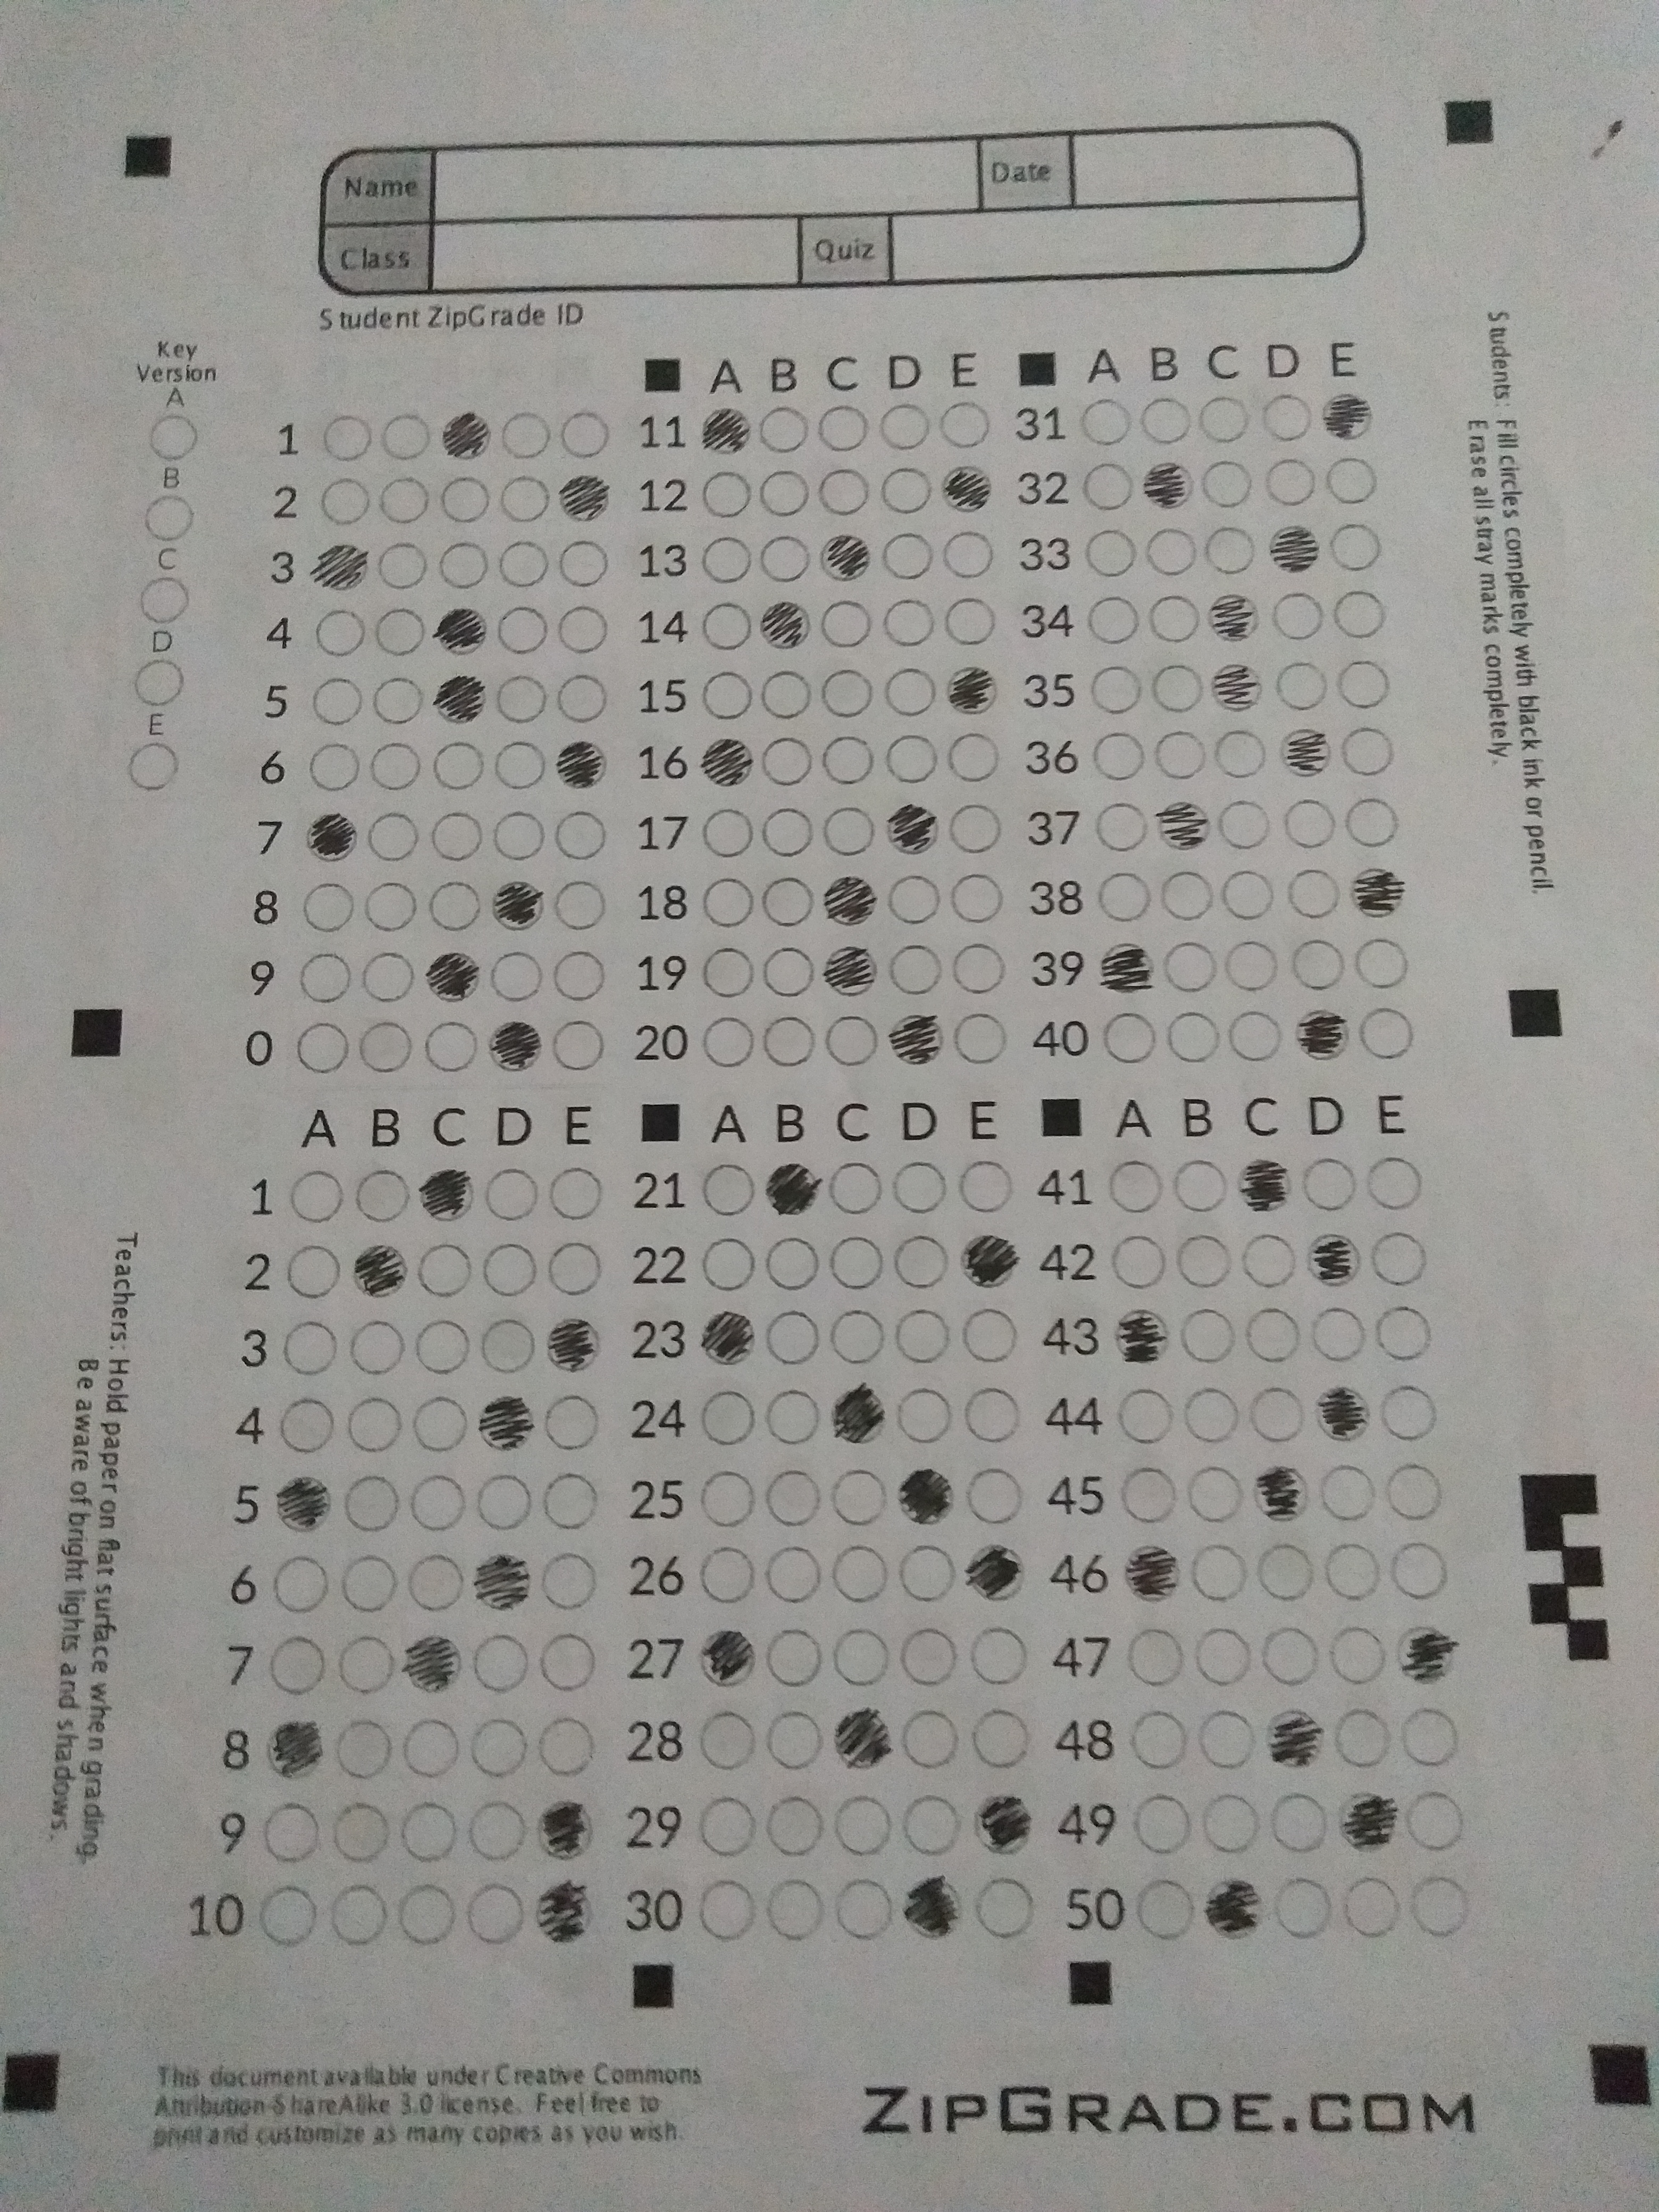not-c: (1406, 1791, 1469, 1855), (1131, 1791, 1194, 1855), (1129, 1705, 1192, 1770), (1398, 1705, 1460, 1770), (1387, 1536, 1450, 1601), (1323, 1540, 1385, 1604), (1316, 1461, 1378, 1526), (1380, 1460, 1443, 1524), (1248, 1383, 1310, 1447), (1378, 1379, 1441, 1444), (1108, 1228, 1171, 1292), (1366, 1224, 1429, 1289), (1363, 1148, 1425, 1212), (829, 1541, 892, 1606), (896, 1540, 958, 1604), (967, 1627, 1030, 1691), (763, 1627, 826, 1691), (697, 1707, 760, 1771), (901, 1792, 964, 1857), (897, 1705, 960, 1770), (329, 1799, 392, 1864), (267, 1632, 329, 1696), (469, 1632, 532, 1696), (472, 1470, 535, 1534), (338, 1470, 401, 1534), (542, 1386, 605, 1451), (408, 1392, 471, 1456), (477, 1312, 540, 1376), (1342, 1876, 1405, 1940), (1272, 1874, 1335, 1939), (762, 1306, 824, 1371), (826, 1306, 889, 1371), (958, 1305, 1021, 1369), (892, 1385, 955, 1449), (697, 1543, 760, 1608), (695, 1468, 758, 1533), (1255, 1540, 1317, 1602), (1185, 1463, 1248, 1526), (763, 1710, 826, 1773), (267, 1552, 329, 1615), (1408, 1874, 1471, 1937), (1269, 1791, 1330, 1855), (1201, 1789, 1262, 1853), (1194, 1709, 1255, 1773), (1333, 1707, 1394, 1771), (1124, 1627, 1185, 1691), (1192, 1625, 1253, 1689), (1260, 1622, 1321, 1686), (1328, 1620, 1389, 1684), (1188, 1540, 1249, 1604), (1117, 1465, 1178, 1529), (1115, 1385, 1176, 1449), (1182, 1385, 1243, 1449), (1373, 1301, 1434, 1366), (1243, 1303, 1303, 1367), (1176, 1305, 1237, 1369), (1173, 1228, 1234, 1292), (1239, 1226, 1300, 1291), (1298, 1150, 1359, 1214), (1171, 1153, 1232, 1217), (1107, 1153, 1168, 1217), (897, 1627, 958, 1691), (828, 1625, 889, 1689), (697, 1792, 758, 1857), (765, 1792, 826, 1857), (833, 1792, 894, 1857), (969, 1709, 1030, 1773), (976, 1876, 1037, 1940), (833, 1876, 894, 1940), (765, 1879, 826, 1944), (699, 1876, 760, 1940), (326, 1881, 387, 1946), (396, 1885, 457, 1949), (465, 1881, 526, 1946), (258, 1885, 319, 1949), (261, 1799, 322, 1864), (399, 1801, 460, 1865), (467, 1799, 528, 1864), (533, 1714, 594, 1778), (399, 1716, 460, 1780), (331, 1717, 392, 1782), (537, 1630, 598, 1695), (538, 1547, 599, 1611), (403, 1548, 464, 1613), (338, 1550, 399, 1615), (540, 1468, 601, 1533), (406, 1470, 467, 1534), (343, 1393, 404, 1458), (275, 1392, 336, 1456), (347, 1315, 408, 1379), (411, 1317, 472, 1381), (1136, 1876, 1197, 1940), (697, 1383, 758, 1447), (762, 1467, 823, 1531), (762, 1386, 823, 1451), (890, 1305, 951, 1369), (890, 1228, 951, 1292), (826, 1230, 887, 1294), (762, 1231, 823, 1296), (697, 1233, 758, 1298), (962, 1383, 1023, 1447), (828, 1463, 889, 1527), (964, 1463, 1025, 1527), (1305, 1299, 1366, 1362), (469, 1716, 530, 1778), (336, 1634, 397, 1696), (762, 1543, 824, 1604), (357, 949, 418, 1008), (758, 942, 819, 1000), (948, 939, 1009, 996), (697, 805, 758, 862), (551, 874, 612, 932), (425, 810, 486, 867), (490, 737, 551, 794), (953, 1008, 1012, 1066), (758, 803, 817, 860), (945, 798, 1004, 855), (429, 735, 488, 792), (432, 535, 491, 592), (138, 489, 197, 547), (296, 949, 355, 1007), (958, 1157, 1018, 1214), (545, 1240, 605, 1298), (545, 1165, 605, 1223), (484, 1167, 544, 1224), (361, 880, 420, 937), (549, 946, 608, 1003), (547, 1017, 606, 1075), (488, 948, 547, 1005), (490, 806, 549, 864), (699, 1015, 758, 1073), (762, 1012, 821, 1069), (885, 871, 945, 928), (369, 606, 430, 662), (1100, 1010, 1157, 1068), (293, 1019, 352, 1075), (823, 1014, 882, 1069), (699, 944, 758, 1000), (885, 941, 945, 996), (699, 874, 758, 930), (758, 873, 817, 928), (946, 871, 1006, 927), (817, 805, 877, 860), (551, 810, 610, 866), (364, 740, 423, 796), (491, 671, 551, 726), (366, 669, 425, 725), (305, 671, 364, 726), (493, 601, 552, 657), (310, 603, 369, 658), (373, 536, 432, 592), (495, 536, 554, 592), (120, 737, 179, 792), (127, 655, 186, 711), (132, 573, 192, 629), (146, 409, 206, 465), (357, 1021, 416, 1076), (281, 1318, 340, 1374), (890, 1160, 950, 1216), (479, 1242, 538, 1298), (416, 1242, 476, 1298), (282, 1244, 342, 1299), (828, 1162, 887, 1217), (697, 1162, 756, 1217), (352, 1169, 411, 1224), (286, 1169, 345, 1224), (422, 1017, 481, 1073), (298, 878, 357, 934), (427, 878, 486, 934), (364, 808, 423, 864), (1227, 1008, 1284, 1064), (1358, 1007, 1415, 1062), (556, 667, 610, 726), (437, 474, 493, 529), (1162, 1012, 1220, 1066), (554, 604, 613, 657), (303, 740, 362, 792), (1335, 658, 1391, 712), (556, 538, 612, 592), (1274, 660, 1330, 714), (319, 411, 376, 463), (1340, 726, 1398, 779), (317, 474, 375, 526), (819, 733, 877, 786), (945, 732, 1002, 784), (1352, 935, 1410, 988), (1159, 869, 1216, 921), (1220, 867, 1277, 920), (1283, 798, 1340, 850), (1093, 799, 1150, 852), (1211, 728, 1269, 780), (758, 737, 816, 789), (376, 409, 432, 462), (375, 474, 430, 526), (817, 667, 873, 719), (1161, 942, 1216, 995), (1098, 869, 1154, 921), (1345, 794, 1401, 846), (1218, 798, 1274, 850), (1091, 730, 1147, 782), (884, 733, 941, 784), (760, 669, 817, 719), (1222, 941, 1279, 991), (1152, 730, 1209, 780), (697, 671, 753, 721), (1290, 939, 1345, 989), (1286, 869, 1342, 920), (1330, 521, 1382, 571), (699, 469, 751, 519), (758, 467, 810, 517), (878, 463, 931, 514), (1326, 453, 1378, 503), (1263, 456, 1316, 507), (1201, 456, 1253, 507), (1080, 460, 1133, 510), (1199, 394, 1251, 444), (1141, 394, 1194, 444), (1080, 395, 1133, 446), (939, 399, 992, 449), (878, 401, 931, 451), (817, 401, 870, 451), (758, 404, 810, 455), (1152, 662, 1204, 712), (498, 472, 551, 523), (885, 667, 938, 718), (1087, 594, 1140, 644), (1147, 590, 1199, 641), (1272, 590, 1324, 641), (1335, 589, 1387, 639), (821, 599, 873, 650), (884, 596, 936, 646), (945, 594, 997, 644), (701, 601, 753, 651), (498, 411, 551, 462), (558, 409, 610, 460), (1084, 526, 1136, 577), (941, 528, 993, 578), (880, 529, 932, 580), (758, 533, 810, 583), (701, 535, 753, 585), (819, 465, 870, 516), (1260, 390, 1310, 441), (1091, 664, 1141, 714), (1147, 524, 1197, 575), (1204, 524, 1255, 575)
taken-c: (828, 1709, 894, 1777), (899, 1876, 965, 1942), (972, 1792, 1039, 1858), (532, 1796, 598, 1862), (399, 1630, 465, 1696), (467, 1548, 533, 1615), (530, 1883, 594, 1949), (265, 1716, 331, 1780), (1335, 1789, 1403, 1851), (695, 1627, 760, 1691), (826, 1383, 890, 1447), (964, 1543, 1030, 1606), (1202, 1876, 1267, 1939), (896, 1467, 958, 1529), (699, 1306, 760, 1369), (821, 939, 882, 1001), (814, 528, 877, 589), (1316, 387, 1378, 448), (694, 401, 755, 463), (958, 1231, 1021, 1292), (1249, 1463, 1310, 1526), (1232, 1153, 1293, 1216), (484, 1019, 545, 1080), (542, 1313, 603, 1374), (760, 1160, 821, 1221), (415, 1163, 476, 1224), (350, 1240, 411, 1301), (274, 1472, 335, 1533), (422, 944, 483, 1005), (303, 806, 364, 867), (483, 876, 544, 937), (551, 733, 612, 794), (695, 732, 756, 792), (819, 873, 880, 934), (882, 799, 943, 860), (887, 1007, 948, 1068), (1291, 1005, 1352, 1066), (1098, 937, 1159, 998), (1155, 794, 1216, 855), (941, 662, 1002, 723), (1349, 864, 1410, 925), (1276, 723, 1337, 784), (1206, 653, 1267, 714), (1202, 587, 1263, 648), (755, 594, 816, 655), (427, 667, 488, 728), (430, 599, 491, 660), (1262, 517, 1323, 578), (436, 406, 497, 467), (1136, 453, 1197, 514), (939, 462, 1000, 523), (549, 467, 610, 528), (310, 536, 371, 597), (474, 1393, 535, 1454), (1394, 1623, 1455, 1684), (1263, 1707, 1324, 1768), (1124, 1541, 1185, 1602), (1310, 1383, 1371, 1444), (1303, 1226, 1364, 1287), (1108, 1305, 1169, 1366)
